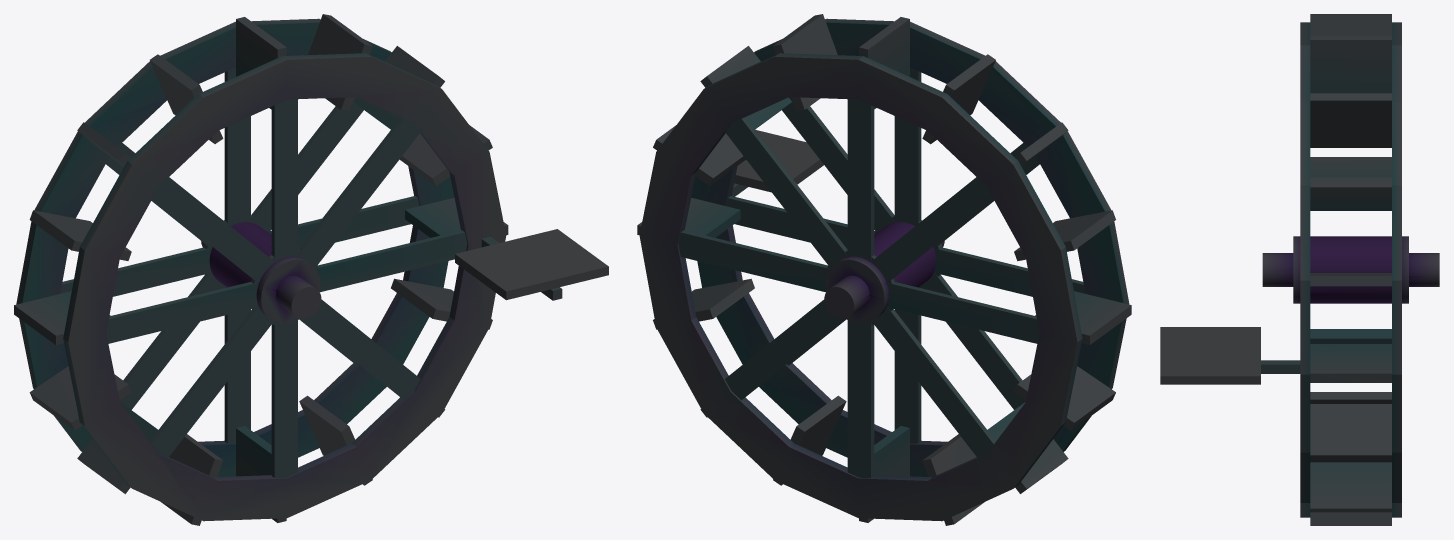
3 renders of one model, left to right at view 1: azimuth 30°, elevation 25°; view 2: azimuth 150°, elevation 25°; view 3: azimuth 270°, elevation 25°, orthographic. The views are drawn at different scales.
Parts seen in each view (by area): view 1: rim.001, rim, deck, hub, spoke.014, spoke.010, spoke.011, spoke.013, spoke.015, spoke.009, spoke.012, spoke.016 (+21 smaller); view 2: rim, rim.001, hub, spoke.002, spoke.006, spoke.003, spoke.007, spoke.005, spoke.001, spoke.004, spoke.008, spoke.011 (+21 smaller); view 3: hub, deck, rim.001, rim, crossboard.005, crossboard.016, crossboard.004, crossboard.015, crossboard.001, crossboard.003, crossboard.006, crossboard.009 (+5 smaller).
Boxes of the visible parts, <box> form: rim.001: <box>63,53,506,521</box>; rim: <box>16,18,454,476</box>; deck: <box>455,229,608,300</box>; hub: <box>201,215,321,324</box>; spoke.014: <box>149,307,273,457</box>; spoke.010: <box>298,117,420,267</box>; spoke.011: <box>271,99,297,261</box>; spoke.013: <box>106,282,258,343</box>; spoke.015: <box>271,320,297,477</box>; spoke.009: <box>316,230,467,292</box>; spoke.012: <box>152,177,274,282</box>; spoke.016: <box>303,299,420,400</box>; rim: <box>639,53,1082,521</box>; rim.001: <box>691,18,1129,476</box>; hub: <box>824,216,944,324</box>; spoke.002: <box>725,117,848,267</box>; spoke.006: <box>872,307,995,457</box>; spoke.003: <box>847,99,874,261</box>; spoke.007: <box>847,320,874,477</box>; spoke.005: <box>887,282,1039,343</box>; spoke.001: <box>678,230,829,292</box>; spoke.004: <box>871,177,992,282</box>; spoke.008: <box>725,299,841,400</box>; spoke.011: <box>894,67,921,225</box>; hub: <box>1262,236,1439,303</box>; deck: <box>1160,327,1260,384</box>; rim.001: <box>1300,22,1310,517</box>; rim: <box>1392,22,1401,517</box>; crossboard.005: <box>1310,35,1391,93</box>; crossboard.016: <box>1310,404,1391,462</box>; crossboard.004: <box>1310,93,1391,147</box>; crossboard.015: <box>1310,462,1391,512</box>; crossboard.001: <box>1310,344,1391,382</box>; crossboard.003: <box>1310,177,1391,210</box>; crossboard.006: <box>1310,14,1391,35</box>; crossboard.009: <box>1310,157,1391,177</box>.
Size of the model in its own units: 2 by 1.9 by 1.04.
